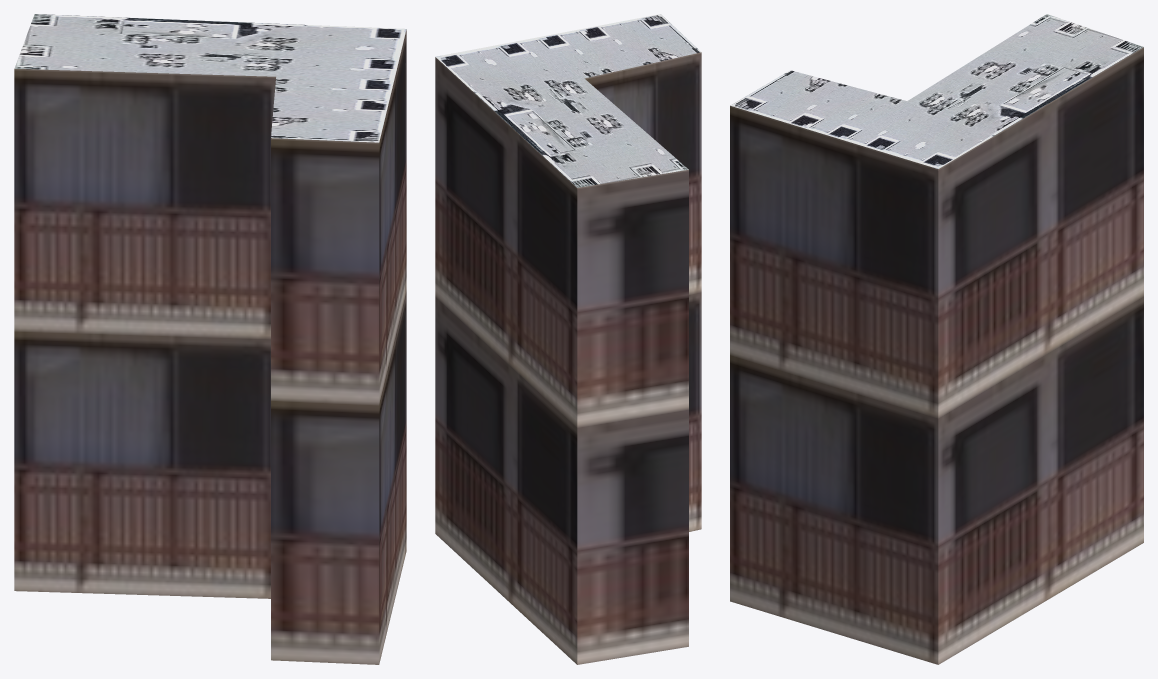
The model's file is ResTex__4723.fbx.
3 views of the same model, side by side, from view 1: azimuth 30°, elevation 25°; view 2: azimuth 150°, elevation 25°; view 3: azimuth 270°, elevation 25° (orthographic). The views are drawn at different scales.
Parts seen in each view (by area): view 1: CityEngineMaterial_6_m, CityEngineMaterial_2_m; view 2: CityEngineMaterial_6_m, CityEngineMaterial_2_m; view 3: CityEngineMaterial_6_m, CityEngineMaterial_2_m.
Boxes of the visible parts, box(x1,y1,x2,y2) form: CityEngineMaterial_6_m: box(14, 29, 406, 664); CityEngineMaterial_2_m: box(14, 14, 406, 142); CityEngineMaterial_6_m: box(435, 52, 701, 664); CityEngineMaterial_2_m: box(435, 14, 701, 187); CityEngineMaterial_6_m: box(730, 47, 1143, 664); CityEngineMaterial_2_m: box(730, 14, 1143, 168).
Size of the model in its own units: 4.03 by 6 by 4.54.
2 materials, 2 textured.
